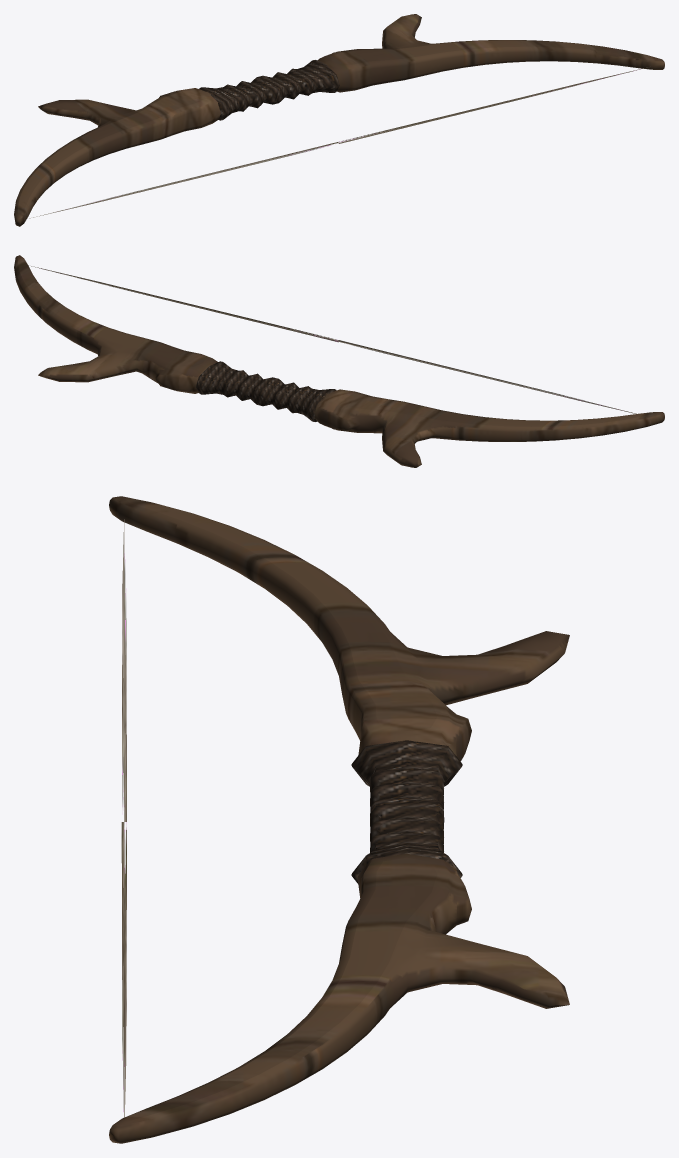
File: sg-bow-1.obj
3 renders of one model, top to bottom at view 1: azimuth 30°, elevation 25°; view 2: azimuth 150°, elevation 25°; view 3: azimuth 270°, elevation 25°, orthographic. The views are drawn at different scales.
Visible parts, largest first — view 1: Subdivision_Surface, str; view 2: Subdivision_Surface, str; view 3: Subdivision_Surface, str.
Part boxes in pixels (<box>): Subdivision_Surface: <box>14,14,664,226</box>; str: <box>29,67,647,218</box>; Subdivision_Surface: <box>14,255,664,467</box>; str: <box>28,265,636,413</box>; Subdivision_Surface: <box>109,496,569,1143</box>; str: <box>121,519,126,1117</box>.
Size of the model in its own units: 1907 by 71.96 by 586.
Materials: 2 (2 with a texture image).
